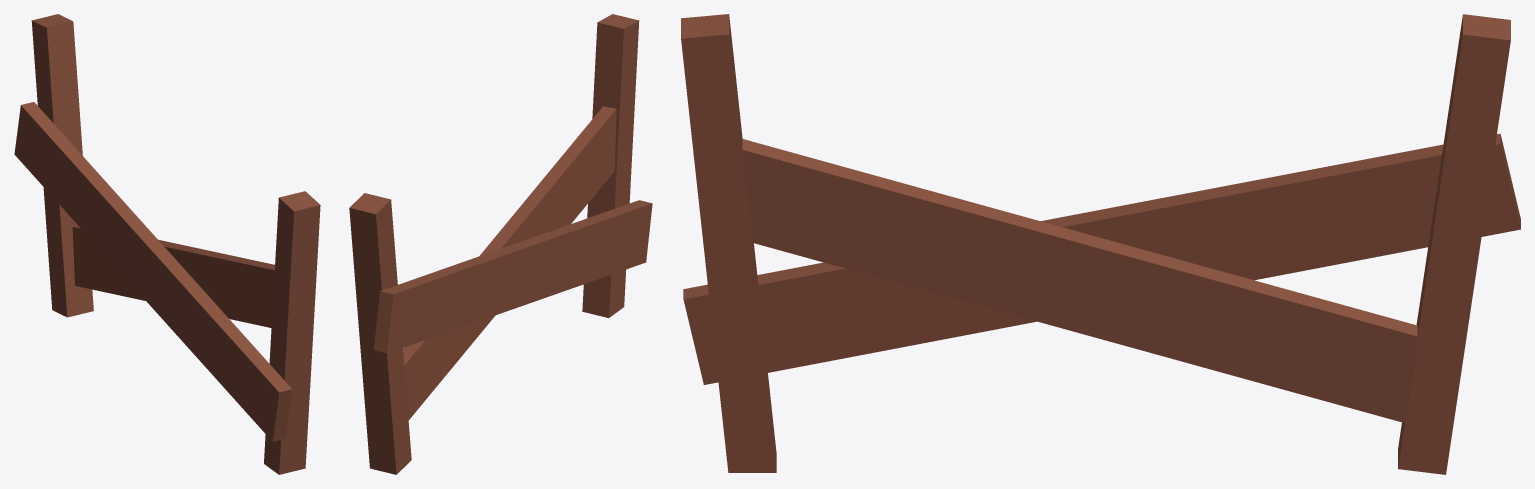
Rendered from fence_03.fbx.
3 renders of one model, left to right at view 1: azimuth 30°, elevation 25°; view 2: azimuth 150°, elevation 25°; view 3: azimuth 270°, elevation 25°, orthographic. The views are drawn at different scales.
Visible parts, largest first — view 1: fence bof; view 2: fence bof; view 3: fence bof.
Boxes of the visible parts, bbox=[...] form: fence bof: bbox=[14, 14, 320, 474]; fence bof: bbox=[349, 14, 652, 474]; fence bof: bbox=[681, 14, 1520, 474].
Size of the model in its own units: 174 by 100 by 15.34.
